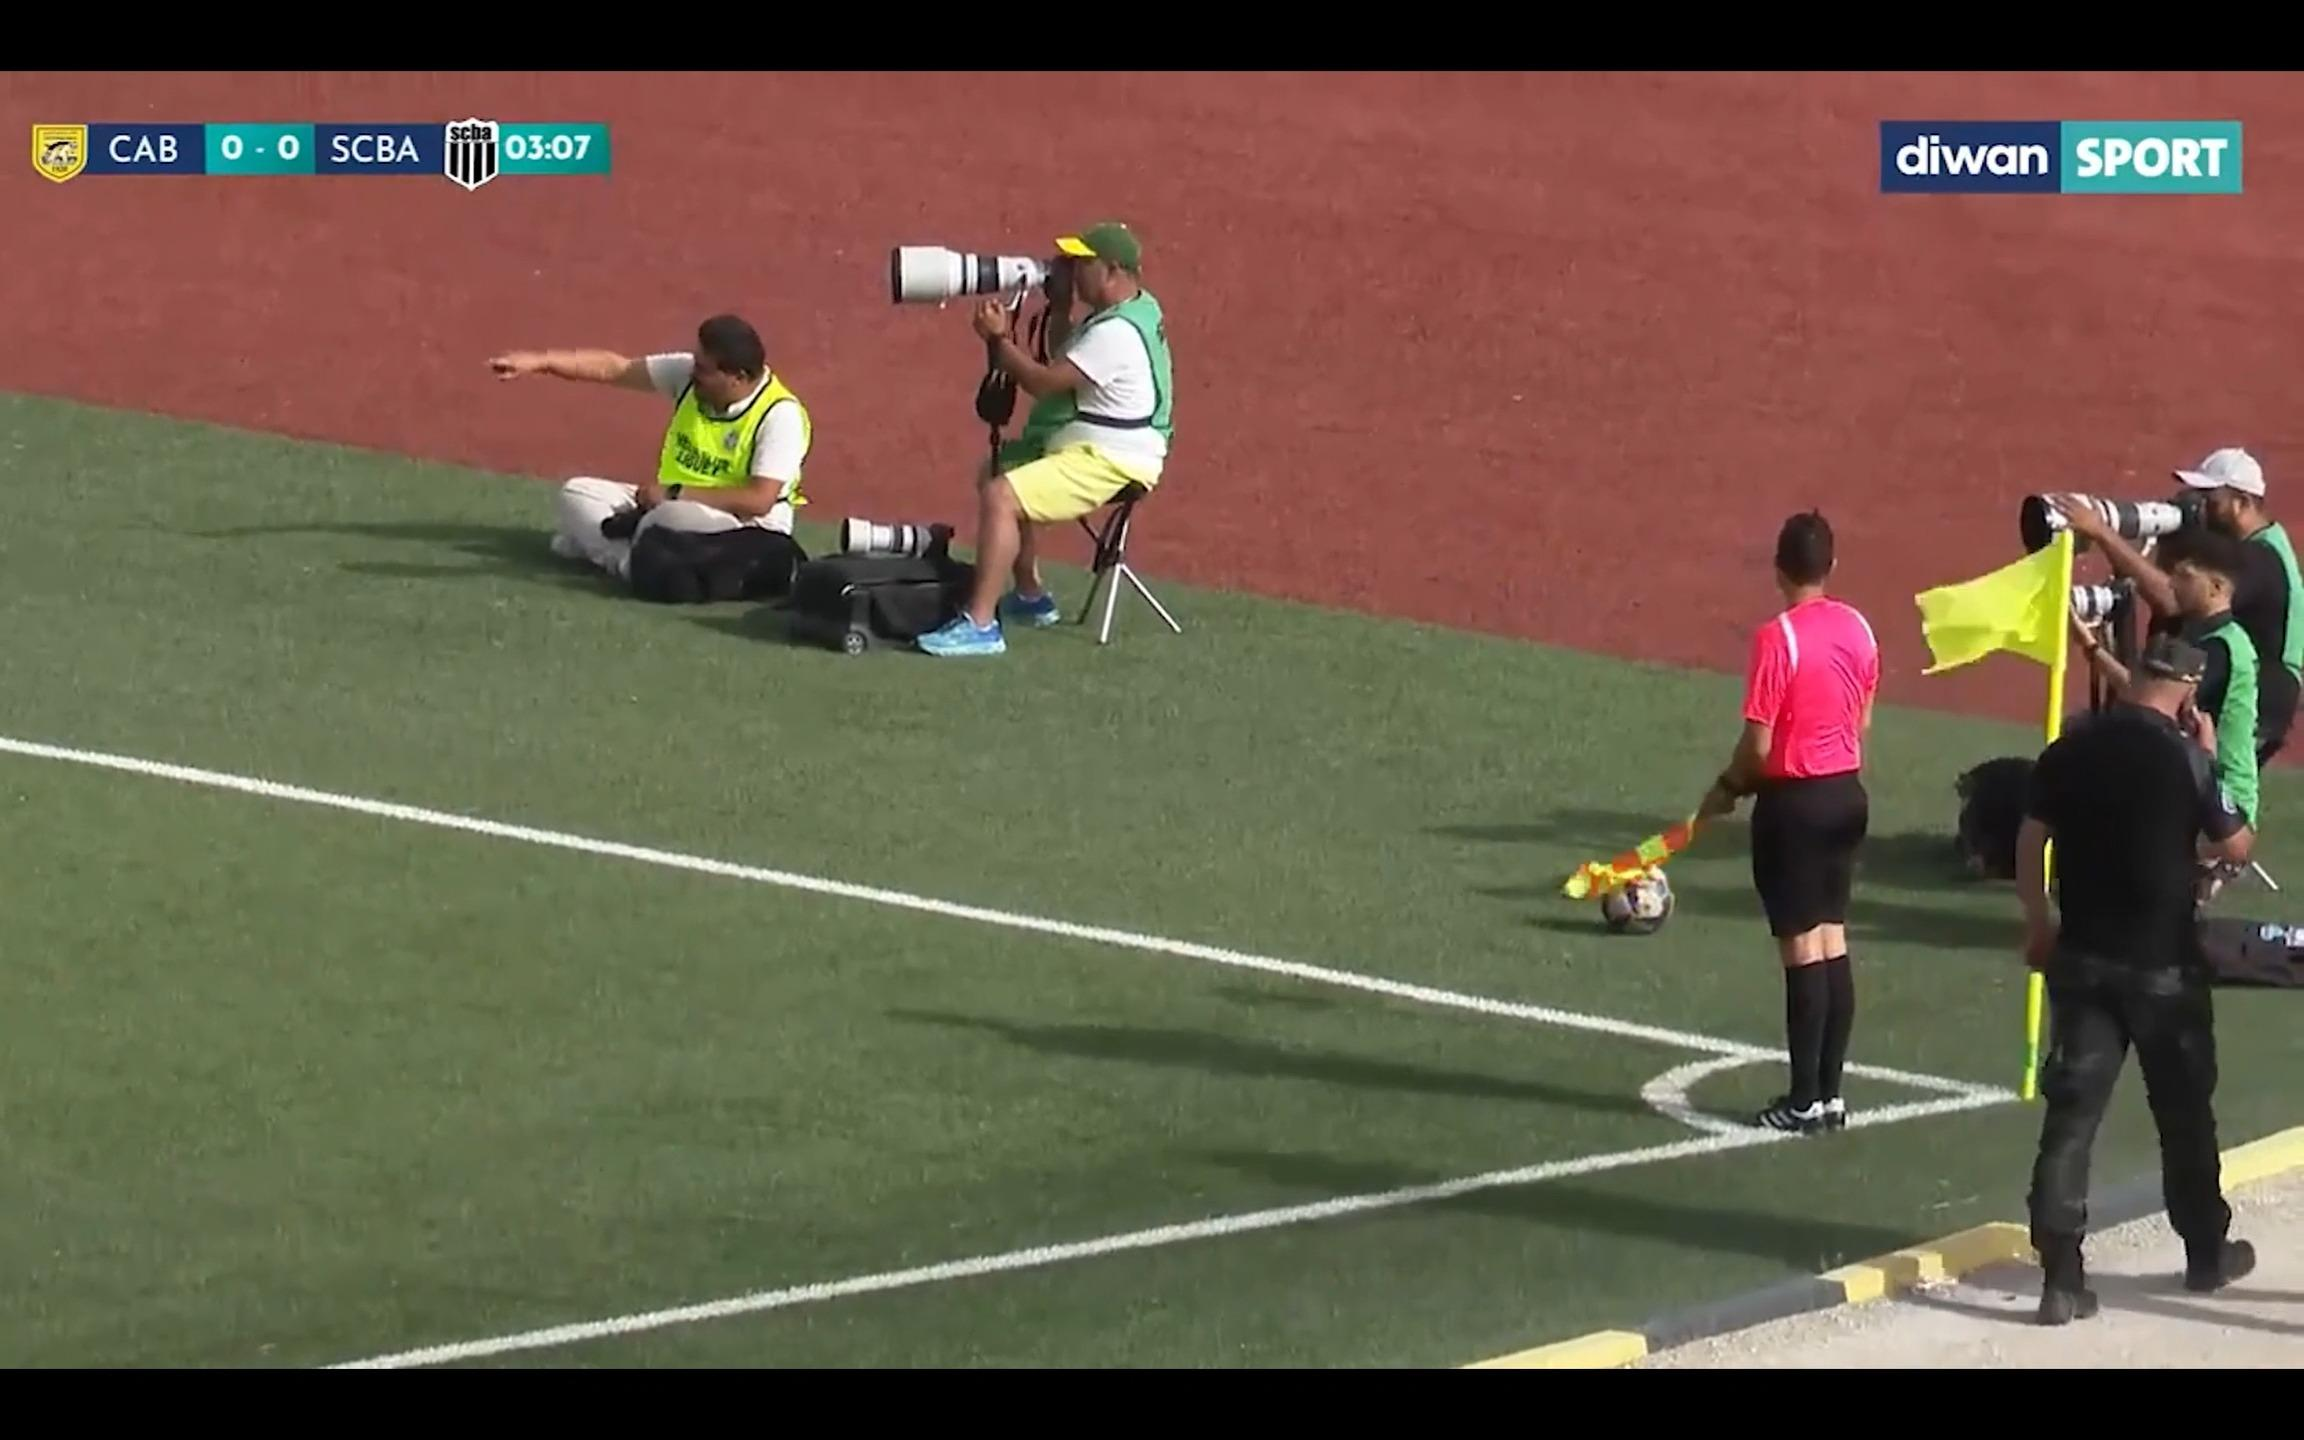referee: (1655, 501, 1929, 1141)
